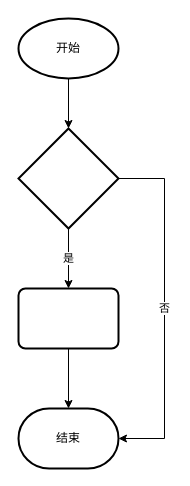
Some shapes in this 190 by 486 pixel diagram are drawn without their labels. Each missing label, with the box of its shape:
修改密码为默认密码: (17, 287, 119, 349)
根据id查询 用户是否存在: (17, 127, 119, 229)
